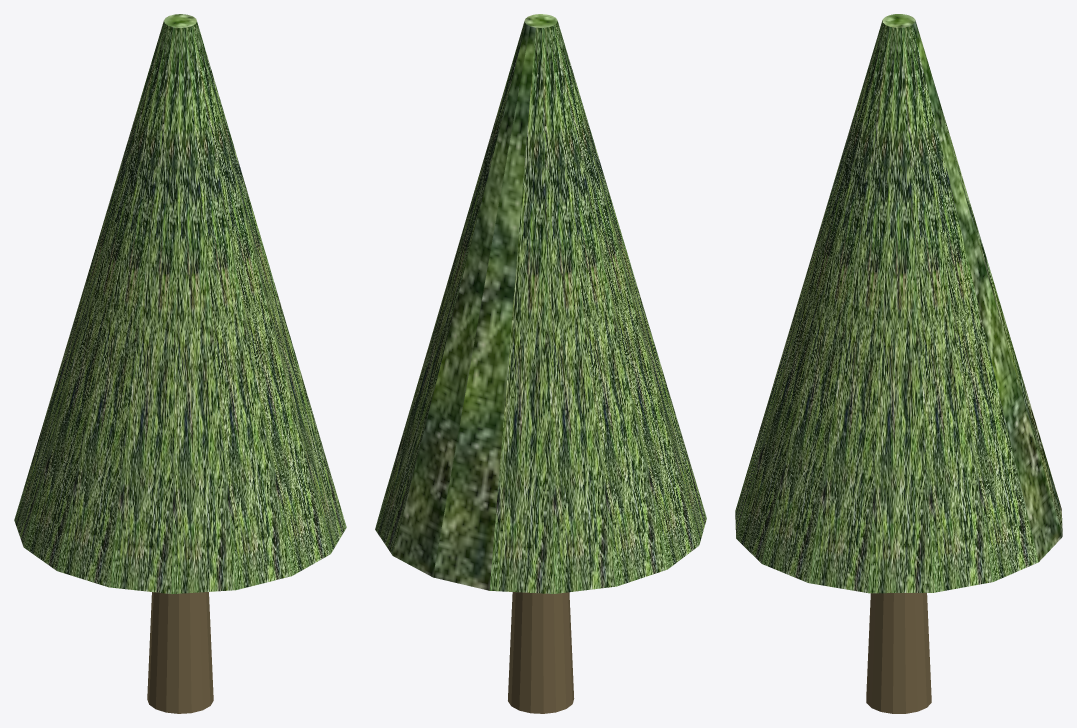
Rendered from GMLID_SO086970_1053_8814.dae.
3 renders of one model, left to right at view 1: azimuth 30°, elevation 25°; view 2: azimuth 150°, elevation 25°; view 3: azimuth 270°, elevation 25°, orthographic.
Bounding box in the file's own units: 6.58 × 6.58 × 15.07.
3 materials, 1 textured.
